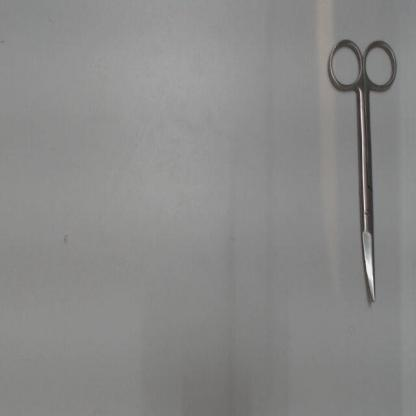Curved Mayo Scissors: (320, 34, 402, 308)
